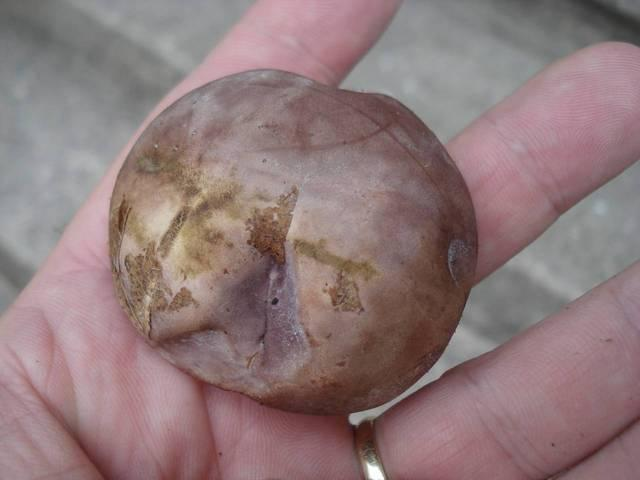Non-edible Mushroom: (106, 66, 480, 417)
